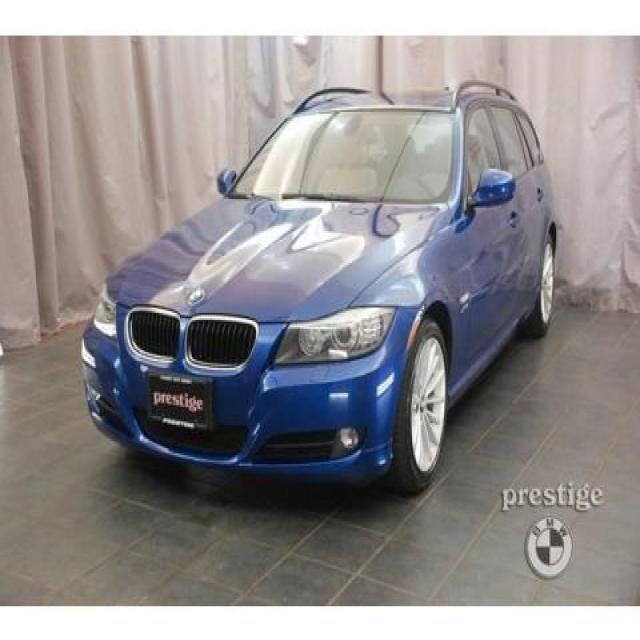Car: (63, 56, 568, 525)
